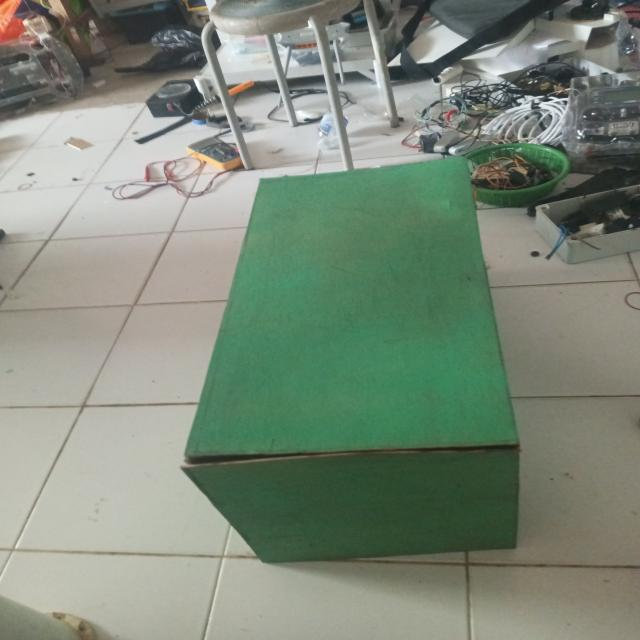green_box: (182, 152, 564, 590)
